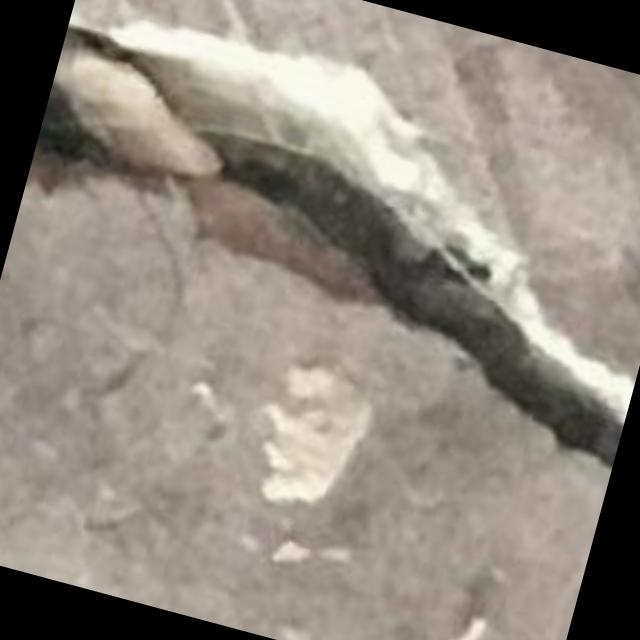crack: (29, 4, 636, 469)
